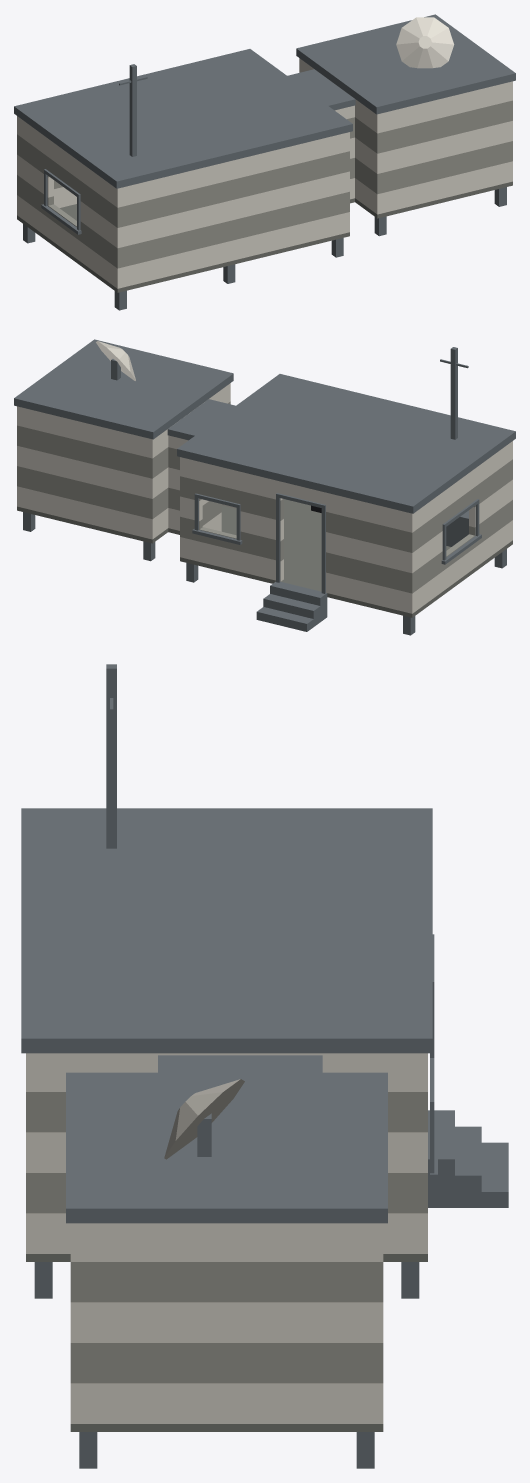
File: research_station.glb
3 views of the same model, one above another, from view 1: azimuth 30°, elevation 25°; view 2: azimuth 150°, elevation 25°; view 3: azimuth 270°, elevation 25° (orthographic). The views are drawn at different scales.
Visible parts, largest first — view 1: research_station; view 2: research_station; view 3: research_station.
Boxes of the visible parts, box(x1,y1,x2,y2) form: research_station: box(14, 14, 515, 310); research_station: box(14, 339, 515, 635); research_station: box(21, 664, 508, 1468).
Size of what is drawn, in the model's own units: 10.66 by 5.5 by 5.45.
1 material, 1 textured.
